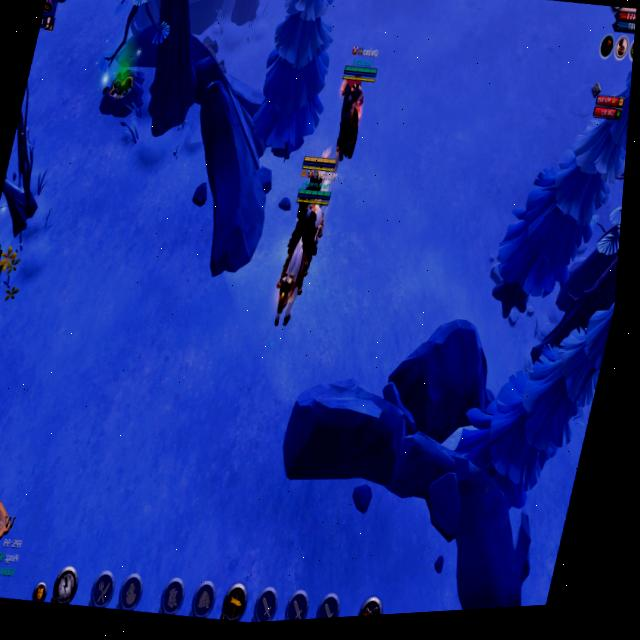red: (258, 160, 348, 339), (319, 37, 388, 180), (285, 145, 346, 234)
